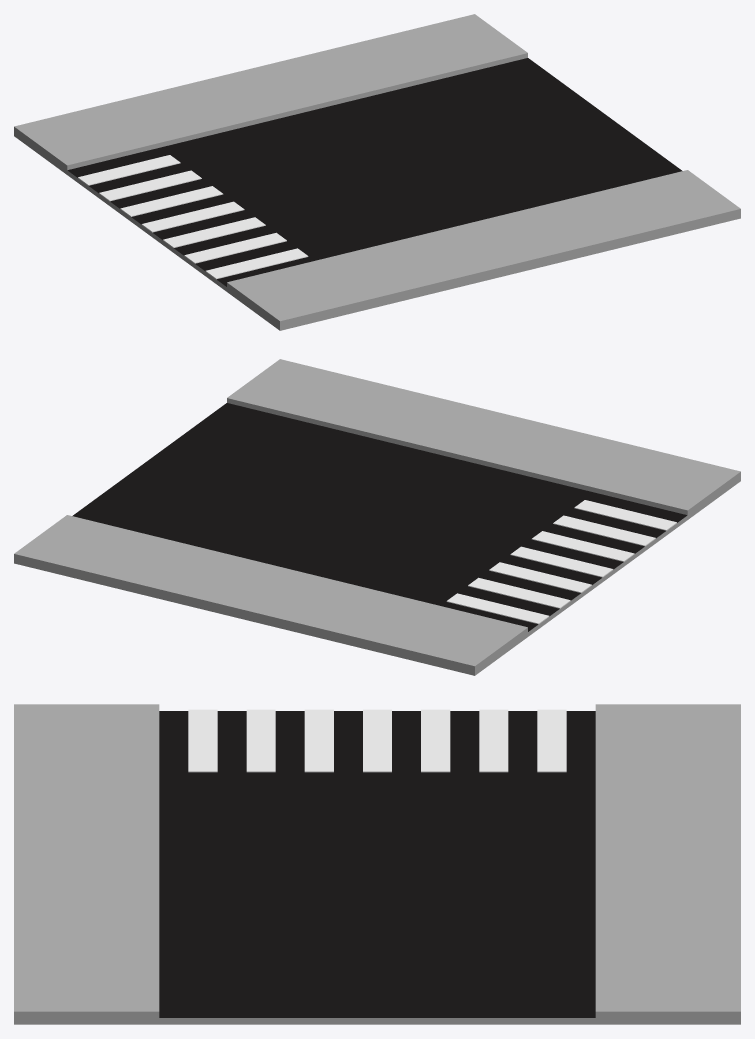
Rendered from Env_Road_Straight_02.fbx.
3 renders of one model, top to bottom at view 1: azimuth 30°, elevation 25°; view 2: azimuth 150°, elevation 25°; view 3: azimuth 270°, elevation 25°, orthographic. The views are drawn at different scales.
Visible parts, largest first — view 1: Env_Road_Straight_02; view 2: Env_Road_Straight_02; view 3: Env_Road_Straight_02.
Boxes of the visible parts, x1,y1,x2,y2 form: Env_Road_Straight_02: [14, 14, 740, 330]; Env_Road_Straight_02: [14, 359, 740, 675]; Env_Road_Straight_02: [14, 704, 740, 1024].
Bounding box in the file's own units: 1000 × 20 × 1000.
